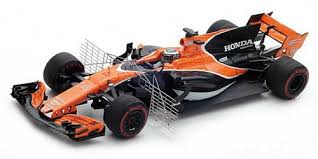FormulaOneCar: (7, 11, 314, 147)
